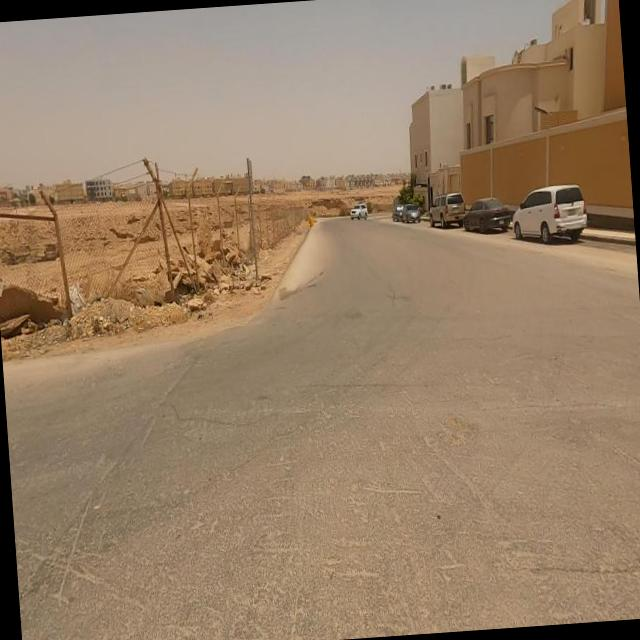debris: (50, 264, 106, 342), (112, 264, 168, 320)
